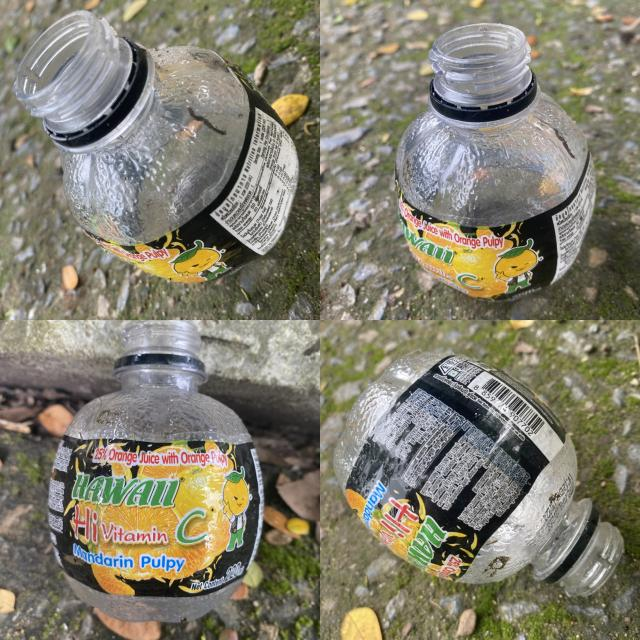plastik: (14, 11, 299, 282), (335, 351, 622, 596), (48, 321, 264, 624), (395, 24, 596, 300)
